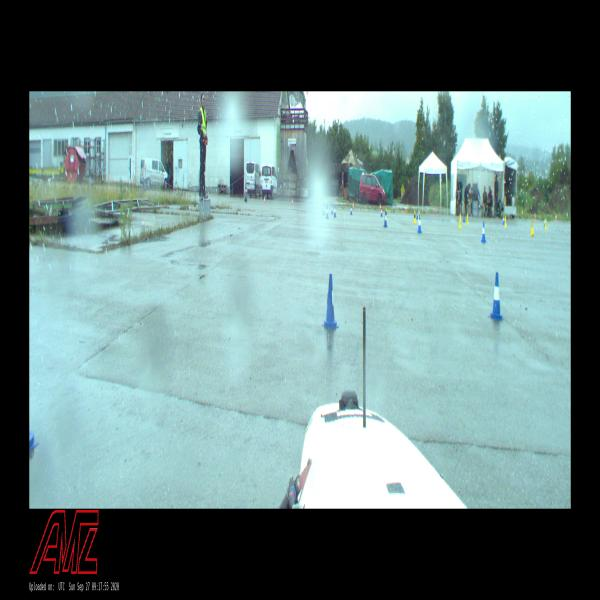blue_cone: (322, 274, 339, 328), (488, 272, 503, 319), (481, 222, 486, 242), (417, 215, 422, 233), (384, 211, 387, 227), (326, 206, 329, 218), (322, 204, 325, 215), (543, 217, 546, 228), (334, 206, 336, 217), (502, 215, 504, 225), (331, 205, 333, 214), (416, 210, 418, 219), (350, 206, 352, 214), (463, 214, 465, 222), (381, 208, 382, 216)
orange_cone: (555, 213, 557, 222), (534, 212, 536, 220), (434, 206, 436, 214), (379, 203, 381, 210), (405, 206, 407, 213), (264, 196, 265, 204), (353, 202, 354, 209), (292, 199, 292, 205)
yellow_cone: (530, 220, 534, 235), (413, 211, 416, 223), (504, 216, 507, 227), (459, 214, 461, 229), (466, 214, 469, 224), (545, 219, 547, 230), (418, 210, 420, 221), (386, 208, 387, 219)
